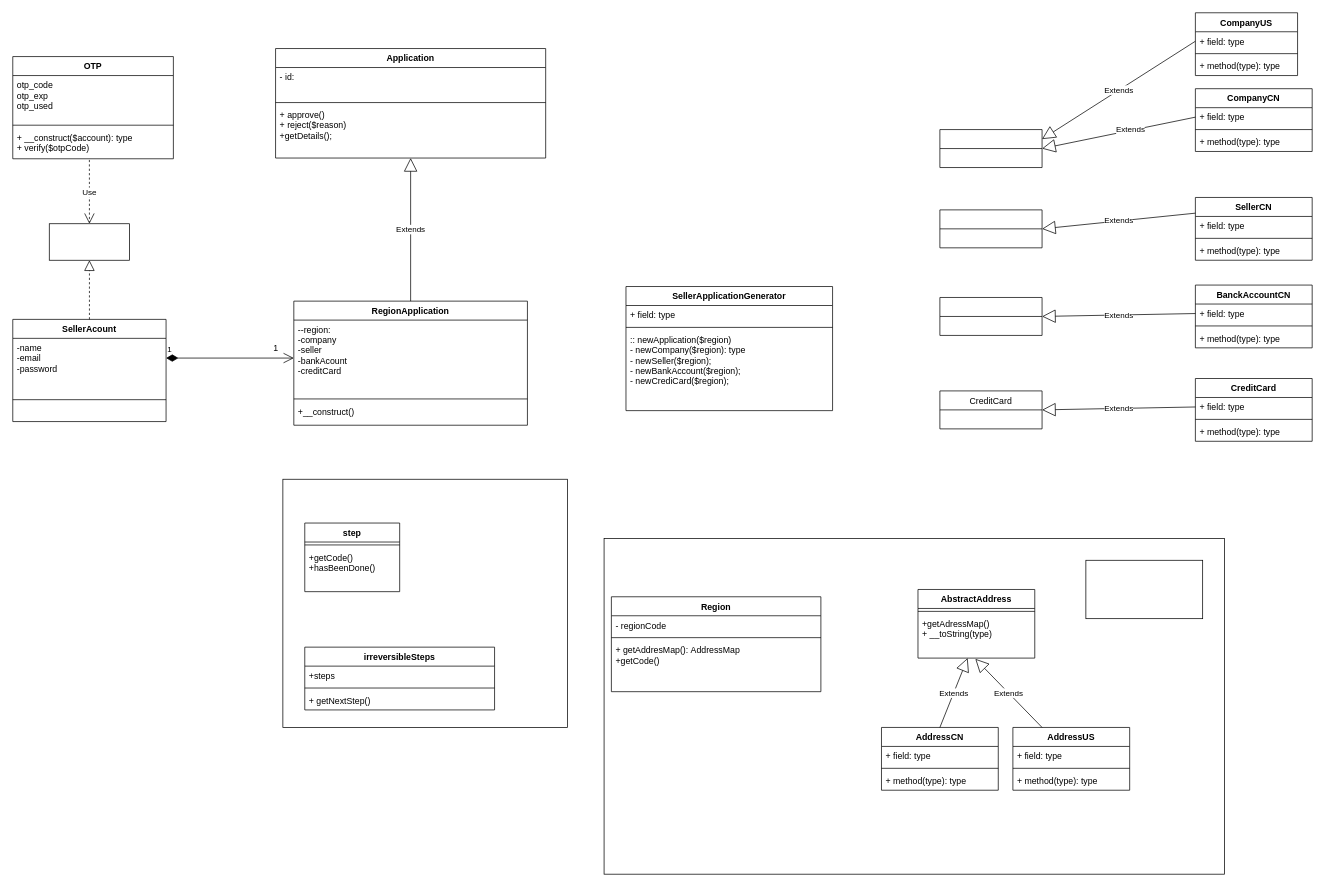
Some shapes in this 1325 by 887 pixel diagram are drawn without their labels. Each missing label, with the centre of its shape:
"BankAccount" belongs at point 990,316.
"Company" belongs at point 990,148.
"Seller" belongs at point 990,228.
"«interface» Account" belongs at point 89,241.
"数据结构AddressMap" belongs at point 1144,589.
